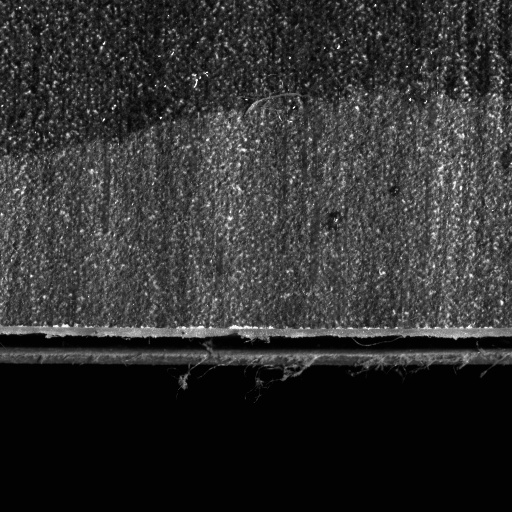kaijiao: (0, 322, 511, 371)
